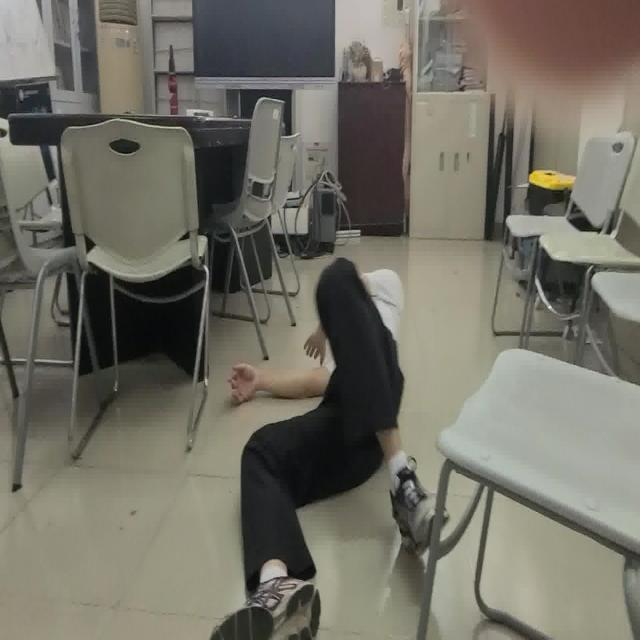fall: (210, 253, 450, 640)
